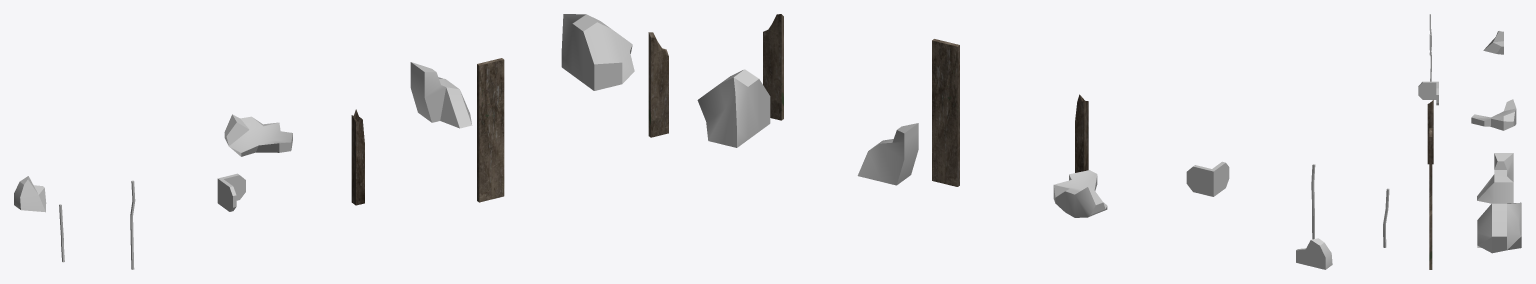
File: Component_ScatterPieces_grp.fbx
3 renders of one model, left to right at view 1: azimuth 30°, elevation 25°; view 2: azimuth 150°, elevation 25°; view 3: azimuth 270°, elevation 25°, orthographic. The views are drawn at different scales.
Parts seen in each view (by area): view 1: scatterA_rubble, scatterF_wood, scatterB_rubble, scatterC_rubble, scatterE_wood, scatterG_wood, scatterD_rubble, scatterH_metalRust; view 2: scatterA_rubble, scatterF_wood, scatterB_rubble, scatterE_wood, scatterC_rubble, scatterH_metalRust, scatterG_wood, scatterD_rubble; view 3: scatterA_rubble, scatterB_rubble, scatterC_rubble, scatterH_metalRust, scatterG_wood, scatterD_rubble, scatterE_wood, scatterF_wood, scatterI_metalRust.
Boxes of the visible parts, box(x1,y1,x2,y2) form: scatterA_rubble: box(561, 14, 634, 90); scatterF_wood: box(477, 58, 504, 202); scatterB_rubble: box(410, 62, 472, 128); scatterC_rubble: box(224, 114, 292, 156); scatterE_wood: box(648, 32, 668, 137); scatterG_wood: box(351, 109, 364, 205); scatterD_rubble: box(14, 176, 46, 212); scatterH_metalRust: box(217, 173, 245, 211); scatterA_rubble: box(697, 69, 770, 147); scatterF_wood: box(932, 39, 959, 186); scatterB_rubble: box(857, 123, 918, 185); scatterE_wood: box(763, 14, 783, 120); scatterC_rubble: box(1053, 170, 1107, 217); scatterH_metalRust: box(1186, 161, 1229, 196); scatterG_wood: box(1075, 94, 1088, 172); scatterD_rubble: box(1296, 238, 1332, 269); scatterA_rubble: box(1477, 202, 1521, 253); scatterB_rubble: box(1477, 153, 1513, 203); scatterC_rubble: box(1471, 99, 1516, 130); scatterH_metalRust: box(1418, 81, 1438, 105); scatterG_wood: box(1427, 100, 1433, 164); scatterD_rubble: box(1483, 31, 1503, 54); scatterE_wood: box(1429, 193, 1432, 269); scatterF_wood: box(1429, 128, 1432, 194); scatterI_metalRust: box(1429, 34, 1431, 81).
Bounding box in the file's own units: 503 × 106 × 106.
